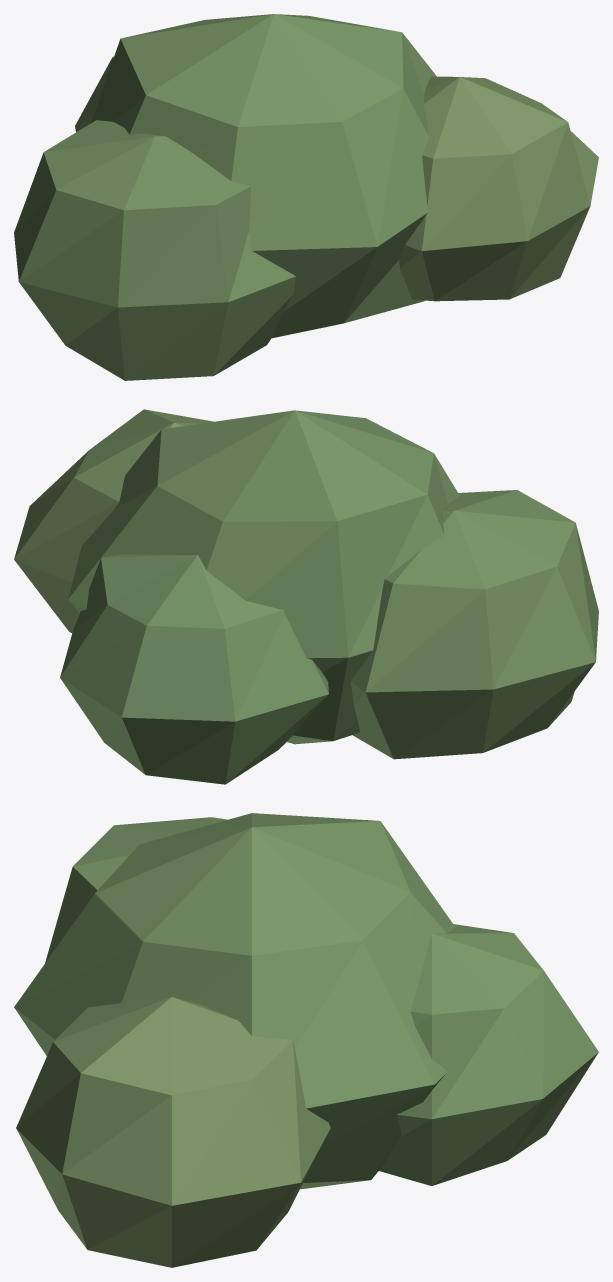
Rendered from bush.glb.
3 renders of one model, top to bottom at view 1: azimuth 30°, elevation 25°; view 2: azimuth 150°, elevation 25°; view 3: azimuth 270°, elevation 25°, orthographic. The views are drawn at different scales.
Parts seen in each view (by area): view 1: bush; view 2: bush; view 3: bush.
Part boxes in pixels (x1=…): bush: x1=14, y1=14, x2=598, y2=380; bush: x1=14, y1=409, x2=598, y2=784; bush: x1=14, y1=813, x2=598, y2=1267.
Size of the model in its own units: 1.86 by 1.02 by 1.46.
